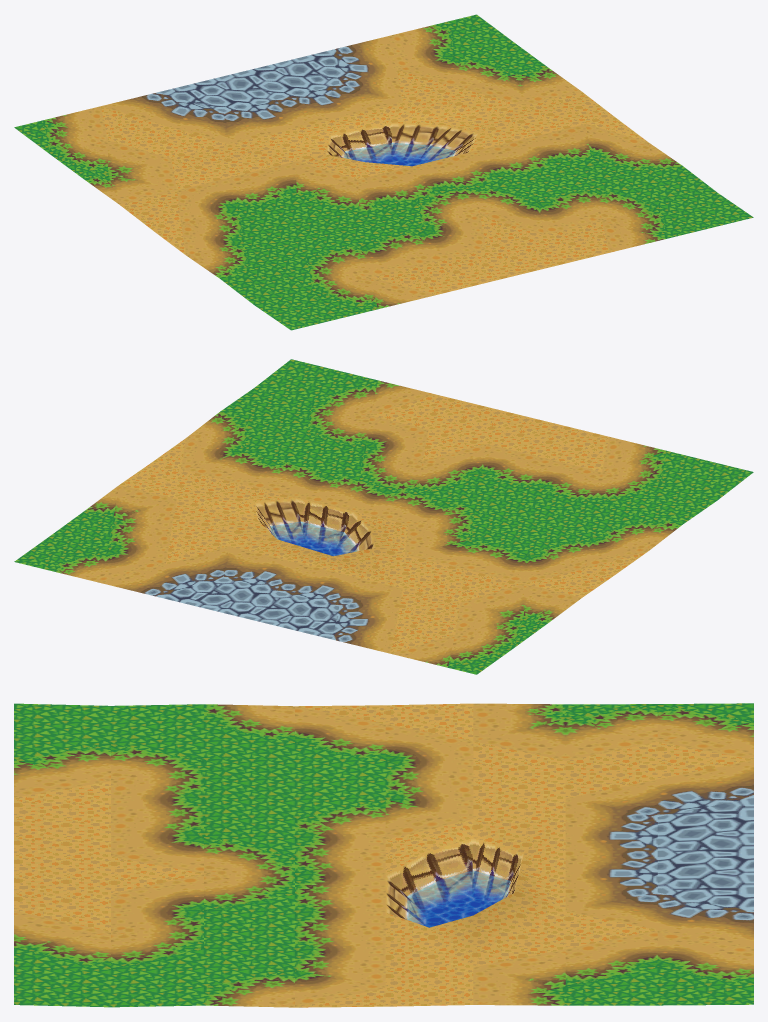
Rendered from c_grd_f_g_3.001.glb.
The picture shows the model from 3 angles, top to bottom: view 1: azimuth 30°, elevation 25°; view 2: azimuth 150°, elevation 25°; view 3: azimuth 270°, elevation 25°; orthographic projection. The views are drawn at different scales.
Visible parts, largest first — view 1: c_grd_f_g_3.001; view 2: c_grd_f_g_3.001; view 3: c_grd_f_g_3.001.
Boxes of the visible parts, box(x1,y1,x2,y2) form: c_grd_f_g_3.001: box(14, 14, 753, 330); c_grd_f_g_3.001: box(14, 359, 753, 674); c_grd_f_g_3.001: box(14, 703, 753, 1007).
Size of the model in its own units: 32 by 4.05 by 33.2.
Materials: 7 (7 with a texture image).
